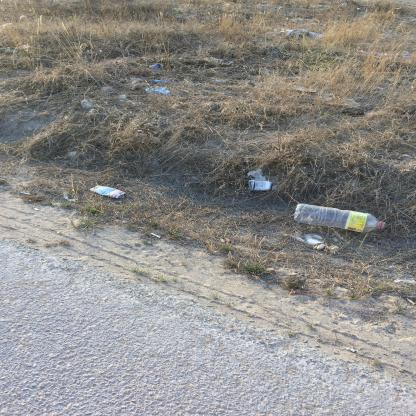karton: (249, 181, 274, 192)
plastik: (294, 204, 387, 234), (94, 187, 128, 199)
